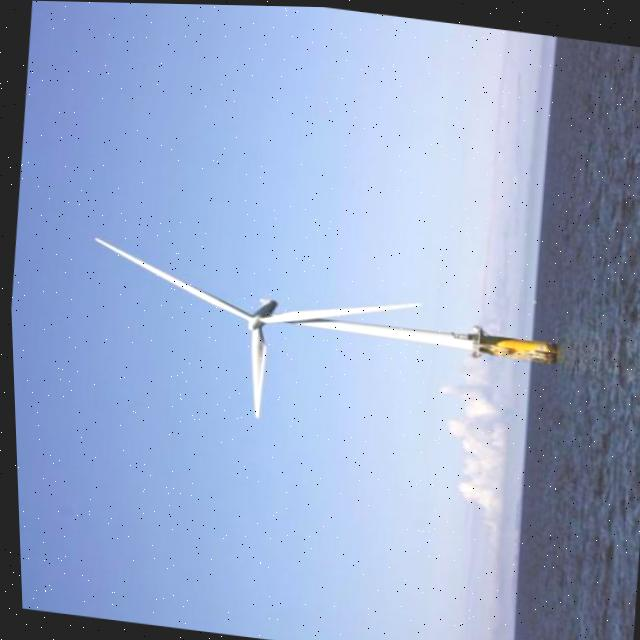solid-blade: (92, 236, 250, 319), (257, 300, 417, 321), (248, 326, 263, 417)
wind-turbine: (92, 236, 554, 415)
